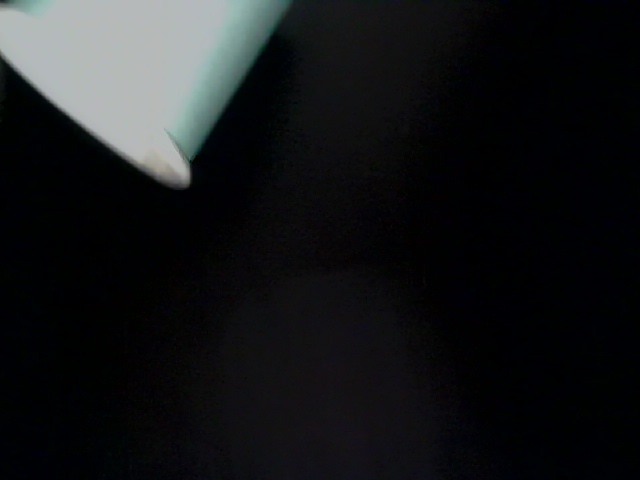KHSLJ: (180, 161, 640, 476)
